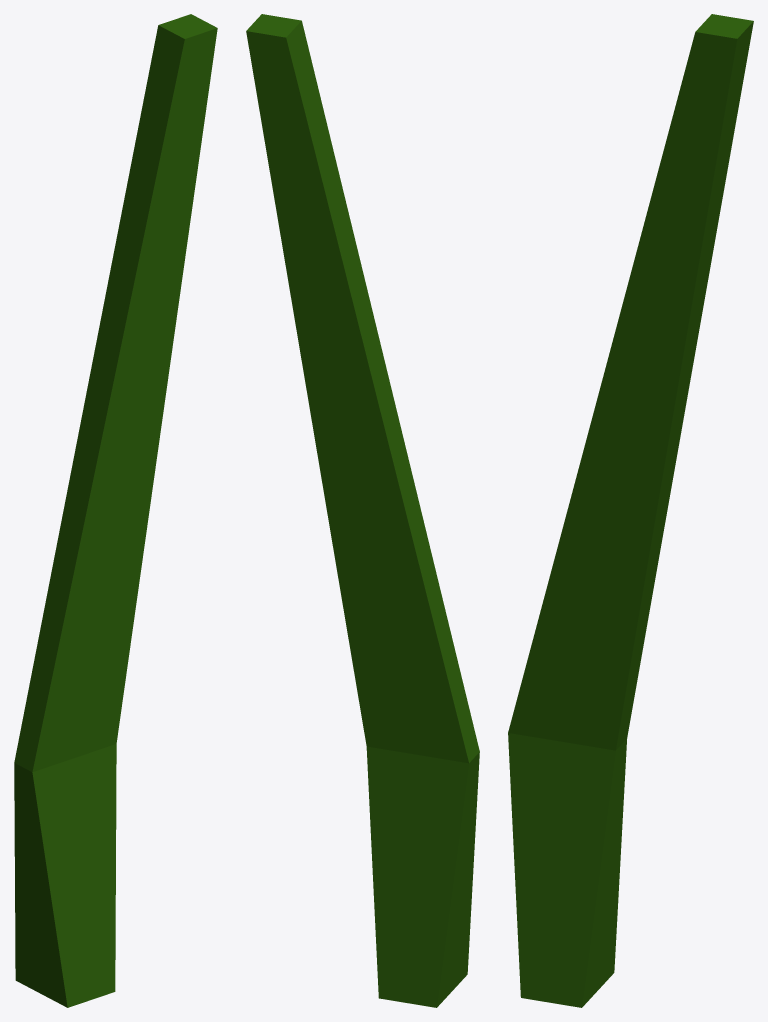
Rendered from g5-green.obj.
3 renders of one model, left to right at view 1: azimuth 30°, elevation 25°; view 2: azimuth 150°, elevation 25°; view 3: azimuth 330°, elevation 25°, orthographic. The views are drawn at different scales.
Visible parts, largest first — view 1: g5-green_Cube.008; view 2: g5-green_Cube.008; view 3: g5-green_Cube.008.
Part boxes in pixels (bbox=[...]): g5-green_Cube.008: bbox=[14, 14, 217, 1007]; g5-green_Cube.008: bbox=[246, 14, 479, 1007]; g5-green_Cube.008: bbox=[508, 14, 753, 1007].
Size of the model in its own units: 0.4105 by 1.77 by 0.164.
